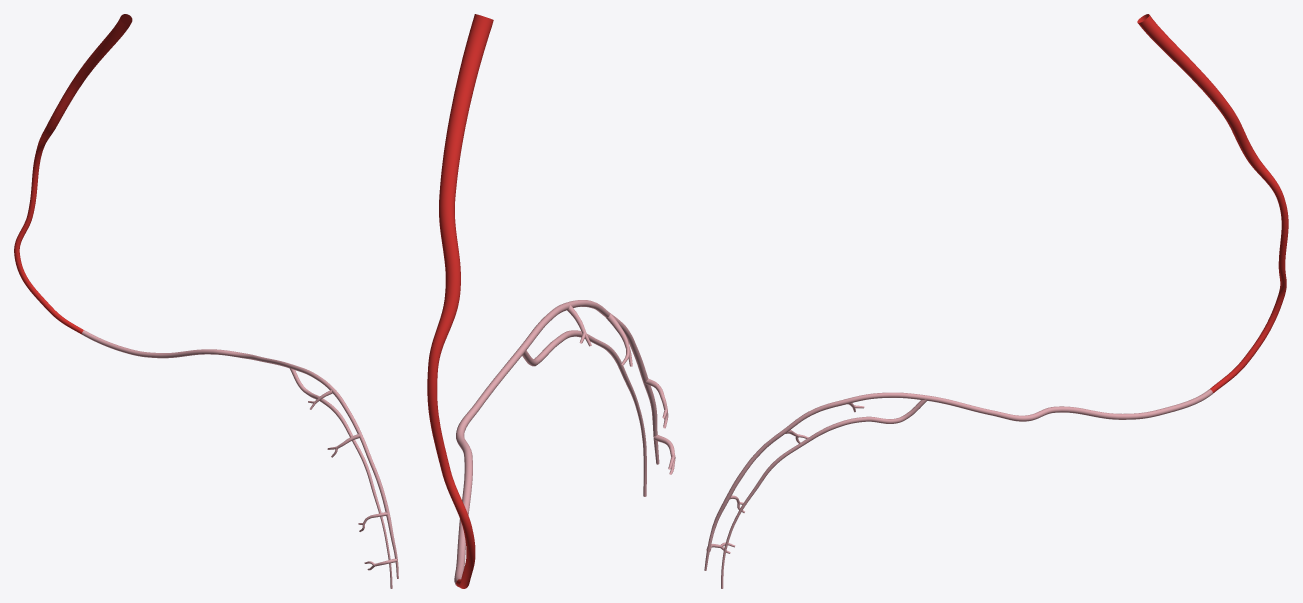
Rendered from circulatorio-internal-pudendal-artery-r.glb.
3 views of the same model, side by side, from view 1: azimuth 30°, elevation 25°; view 2: azimuth 150°, elevation 25°; view 3: azimuth 270°, elevation 25° (orthographic). The views are drawn at different scales.
Visible parts, largest first — view 1: Internal pudendal artery.r, Dorsal artery of penis.r, Deep artery of penis.r; view 2: Internal pudendal artery.r, Dorsal artery of penis.r, Deep artery of penis.r; view 3: Internal pudendal artery.r, Dorsal artery of penis.r, Deep artery of penis.r.
Part boxes in pixels (left/top/right/bottom): Internal pudendal artery.r: left=14, top=14, right=132, bottom=334; Dorsal artery of penis.r: left=81, top=330, right=398, bottom=578; Deep artery of penis.r: left=289, top=368, right=392, bottom=588; Internal pudendal artery.r: left=427, top=14, right=493, bottom=588; Dorsal artery of penis.r: left=454, top=300, right=675, bottom=586; Deep artery of penis.r: left=522, top=330, right=646, bottom=496; Internal pudendal artery.r: left=1137, top=14, right=1288, bottom=393; Dorsal artery of penis.r: left=704, top=389, right=1212, bottom=570; Deep artery of penis.r: left=721, top=399, right=927, bottom=588.
Size of the model in its own units: 0.0471 by 0.1526 by 0.1532.
